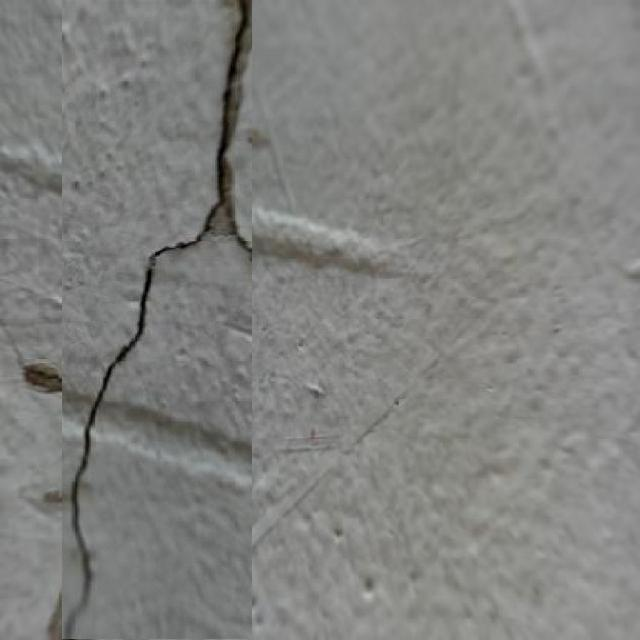diagonal crack: (62, 1, 252, 639)
